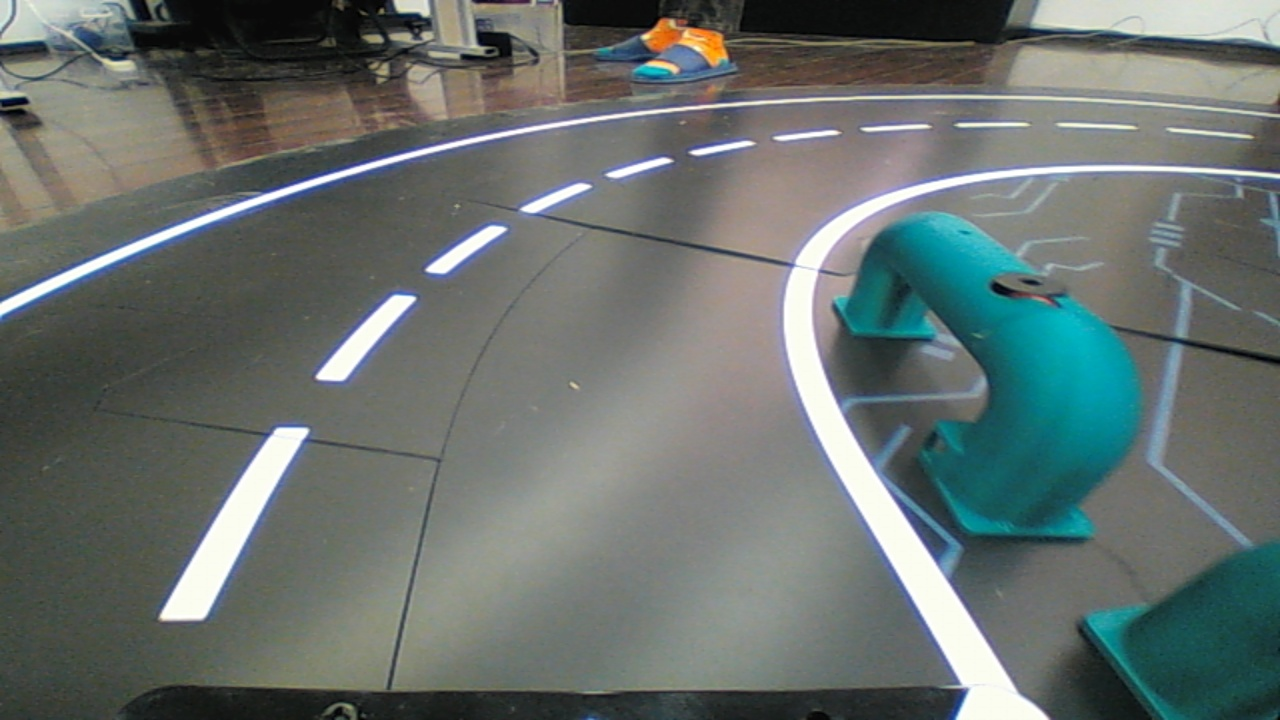Pedestrian crossing: (837, 204, 1152, 538)
